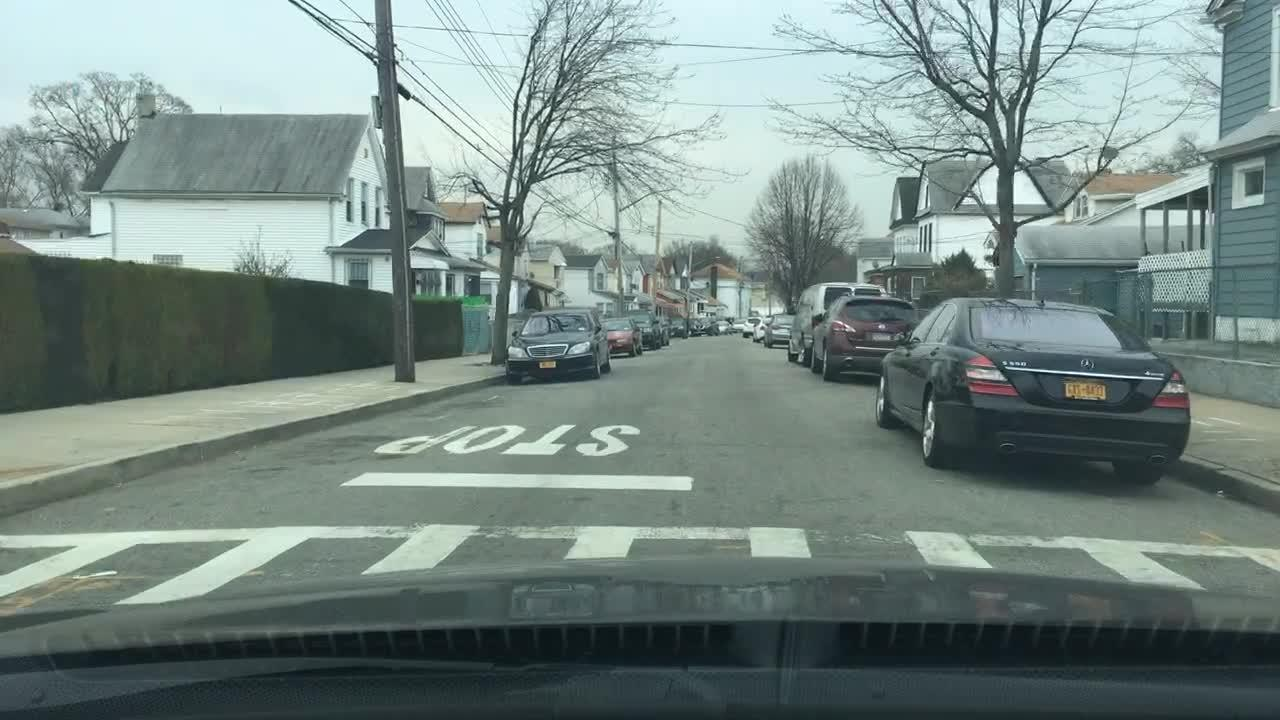Mercedes: (1075, 354, 1098, 373)
